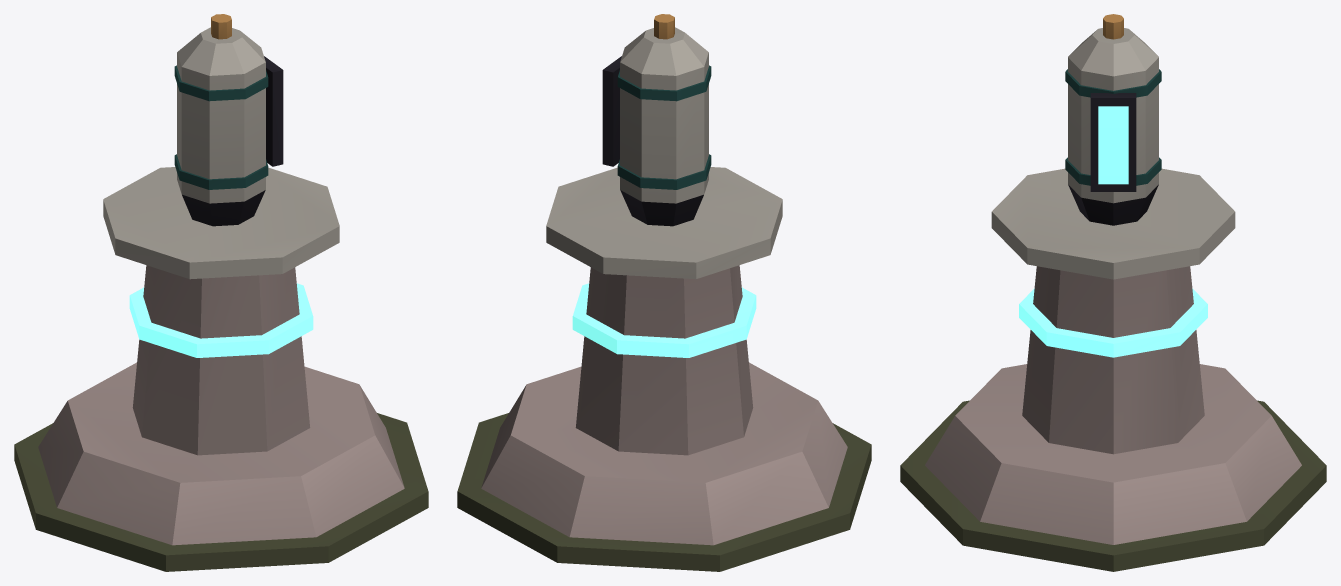
The picture shows the model from 3 angles, left to right: view 1: azimuth 30°, elevation 25°; view 2: azimuth 150°, elevation 25°; view 3: azimuth 270°, elevation 25°; orthographic projection.
Visible parts, largest first — view 1: body_pal_picketWhite, body_emi_tealLight; view 2: body_pal_picketWhite, body_emi_tealLight; view 3: body_pal_picketWhite, body_emi_tealLight.
Boxes of the visible parts, x1,y1,x2,y2 form: body_pal_picketWhite: (14, 14, 428, 571); body_emi_tealLight: (129, 283, 313, 357); body_pal_picketWhite: (457, 14, 871, 571); body_emi_tealLight: (572, 283, 756, 357); body_pal_picketWhite: (900, 14, 1326, 571); body_emi_tealLight: (1019, 106, 1207, 357).
Size of the model in its own units: 1.4 by 1.68 by 1.4.
